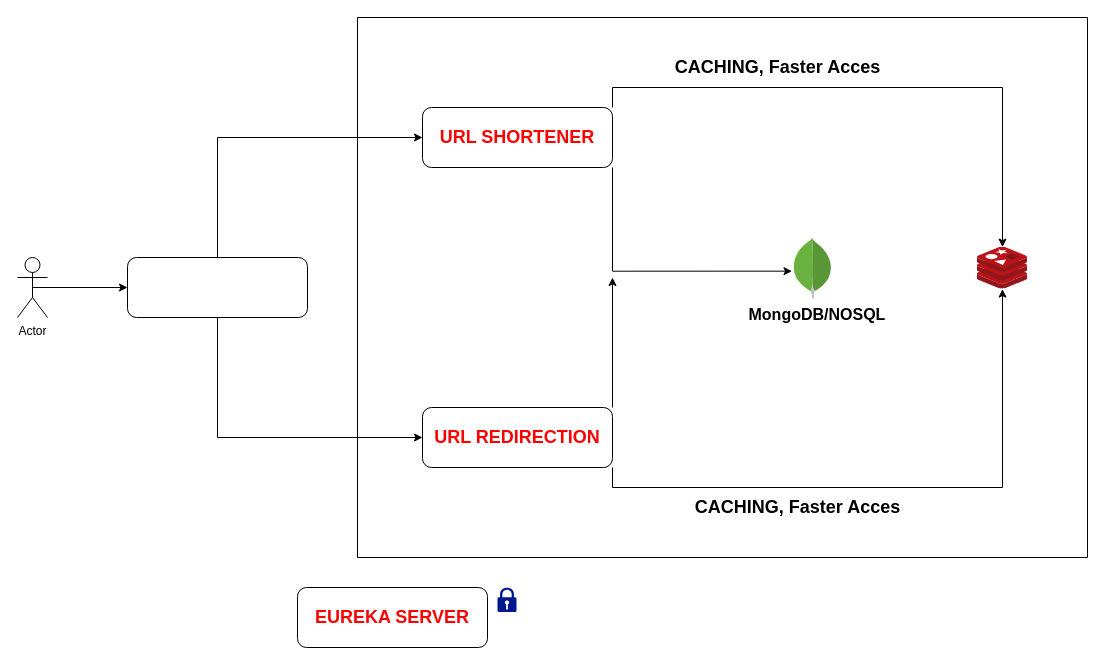
The diagram is 1105 pixels wide and 665 high, and some of its shapes have lost their labels. The shapes that lost their labels are listed below. From the top down, each one's centre as x and y in pixels, then its label:
At (x=217, y=287): "API GATEWAY".
At (x=1002, y=268): "REDIS".
